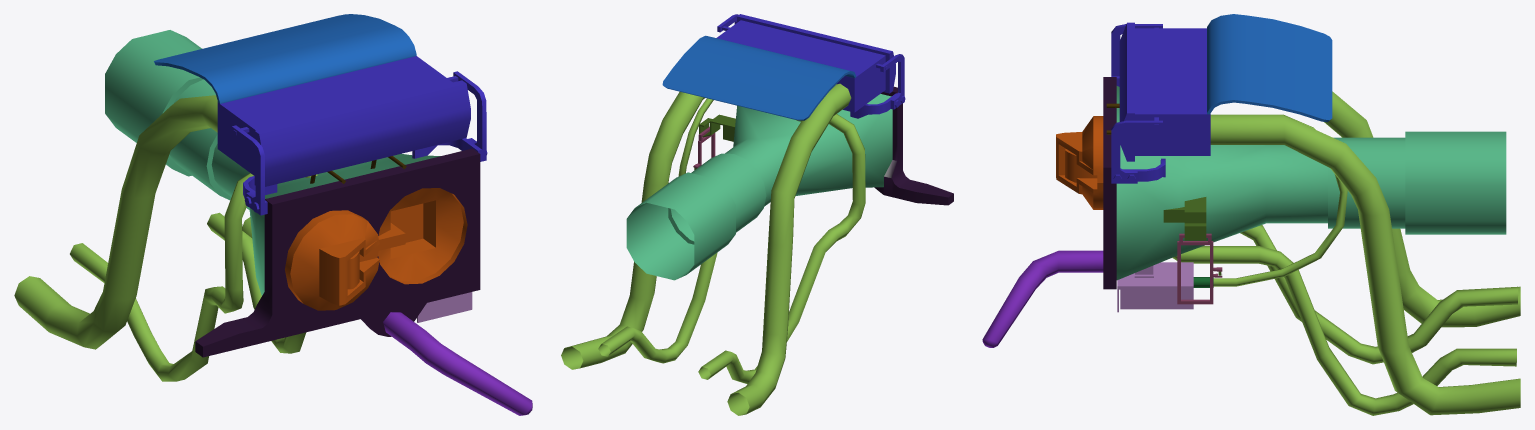
File: Schaku_open.fbx
3 renders of one model, left to right at view 1: azimuth 30°, elevation 25°; view 2: azimuth 150°, elevation 25°; view 3: azimuth 270°, elevation 25°, orthographic. The views are drawn at different scales.
Visible parts, largest first — view 1: mk_Schaku_Typ10_ungekoppelt_0; view 2: mk_Schaku_Typ10_ungekoppelt_0; view 3: mk_Schaku_Typ10_ungekoppelt_0.
Part boxes in pixels (<box>): mk_Schaku_Typ10_ungekoppelt_0: <box>14,14,532,415</box>; mk_Schaku_Typ10_ungekoppelt_0: <box>561,14,953,415</box>; mk_Schaku_Typ10_ungekoppelt_0: <box>982,14,1520,415</box>.
Size of the model in its own units: 69.4 by 81.64 by 120.
